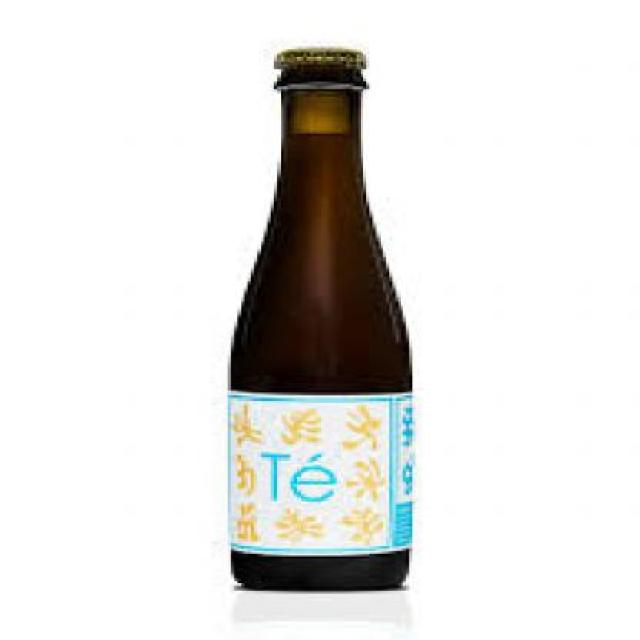GLASS: (228, 64, 406, 590)
METAL: (271, 44, 363, 64)
